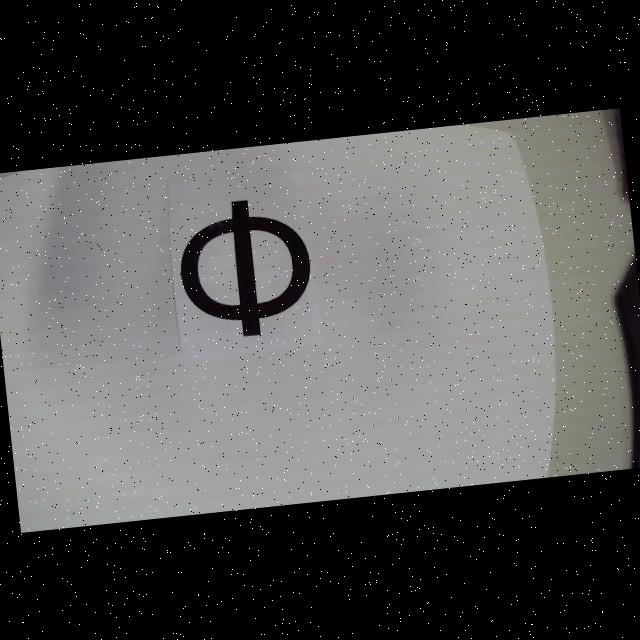PHI: (173, 192, 317, 343)
